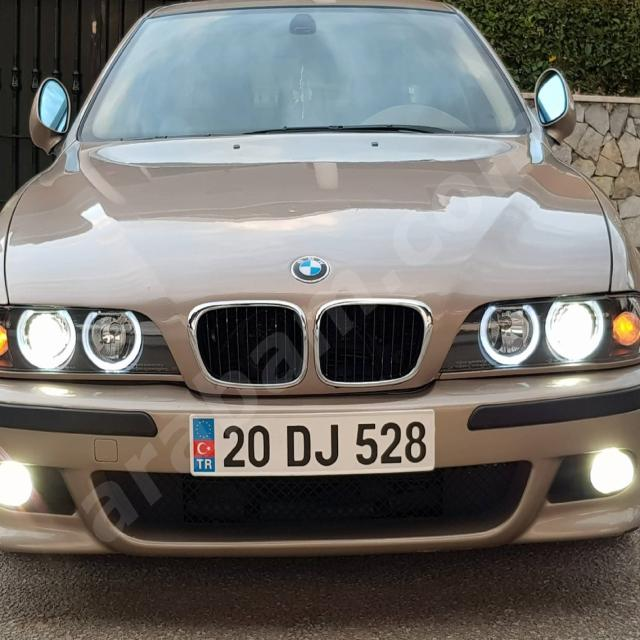license_plate: (189, 411, 436, 477)
